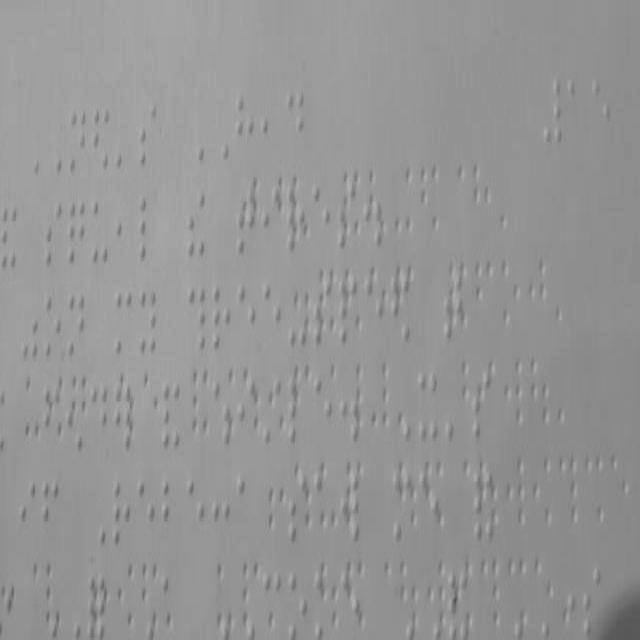braiile: (136, 181, 162, 268), (284, 368, 308, 454), (313, 468, 337, 554), (110, 471, 134, 556), (286, 471, 310, 556), (235, 466, 258, 552), (580, 564, 606, 640), (440, 266, 464, 348), (160, 474, 184, 556), (416, 358, 438, 446), (235, 178, 258, 262), (311, 178, 334, 262), (313, 366, 335, 452), (390, 463, 414, 541), (334, 174, 356, 258), (471, 364, 493, 446), (186, 474, 208, 556), (260, 276, 282, 356), (342, 464, 364, 544), (416, 464, 438, 544), (210, 279, 232, 357), (235, 279, 257, 357), (339, 561, 361, 639), (64, 291, 88, 362), (136, 471, 156, 556), (312, 278, 334, 354), (287, 564, 309, 640), (111, 283, 132, 361), (40, 474, 61, 552), (88, 194, 110, 268), (286, 175, 306, 256), (237, 374, 257, 454), (261, 569, 283, 640), (138, 286, 158, 364), (339, 270, 359, 348), (362, 272, 383, 346), (286, 87, 306, 162), (43, 197, 63, 270), (89, 382, 108, 458), (67, 104, 87, 176), (42, 382, 62, 454), (235, 91, 255, 162), (43, 288, 61, 364), (20, 478, 38, 554), (138, 104, 158, 172)
